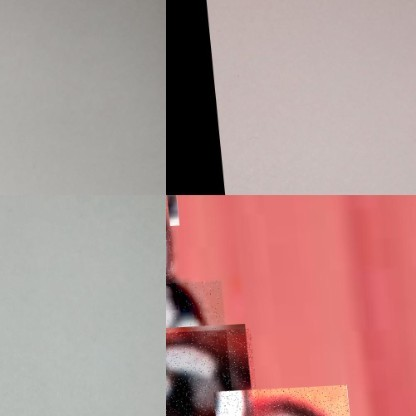ironball: (166, 282, 227, 415), (166, 330, 256, 415), (206, 387, 349, 415)
